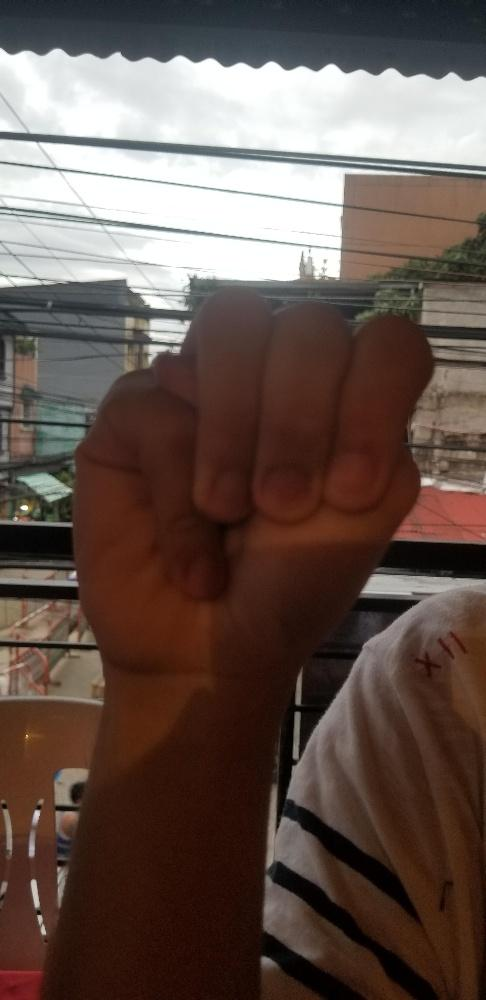m: (68, 282, 436, 676)
